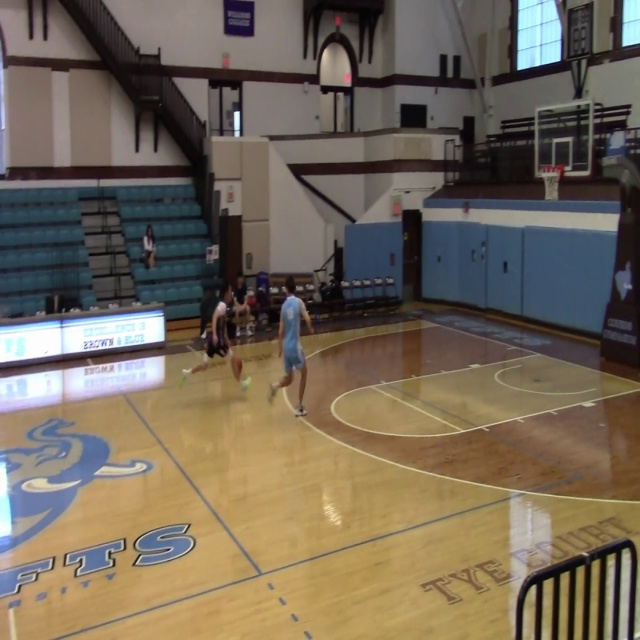Basketball: (233, 304, 250, 324), (231, 358, 242, 379), (240, 376, 251, 390)
